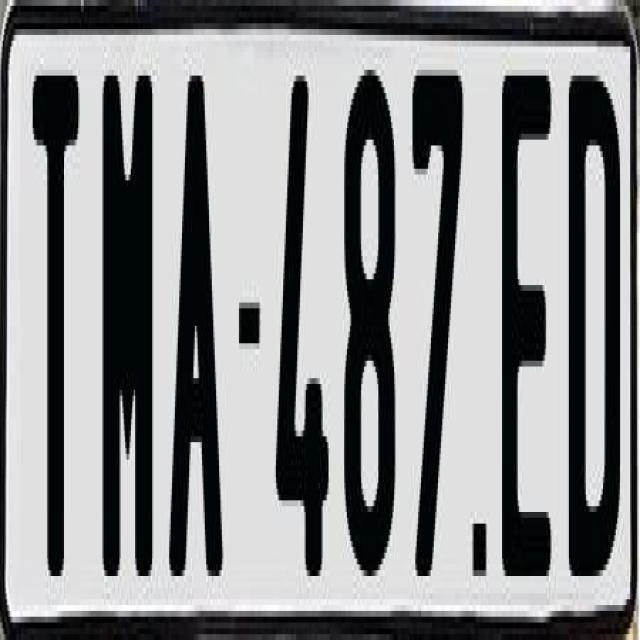4: (274, 76, 336, 582)
7: (410, 64, 468, 594)
8: (344, 70, 397, 611)
A: (166, 76, 222, 600)
D: (564, 70, 612, 588)
E: (498, 58, 546, 559)
M: (100, 64, 150, 570)
T: (30, 58, 78, 588)
